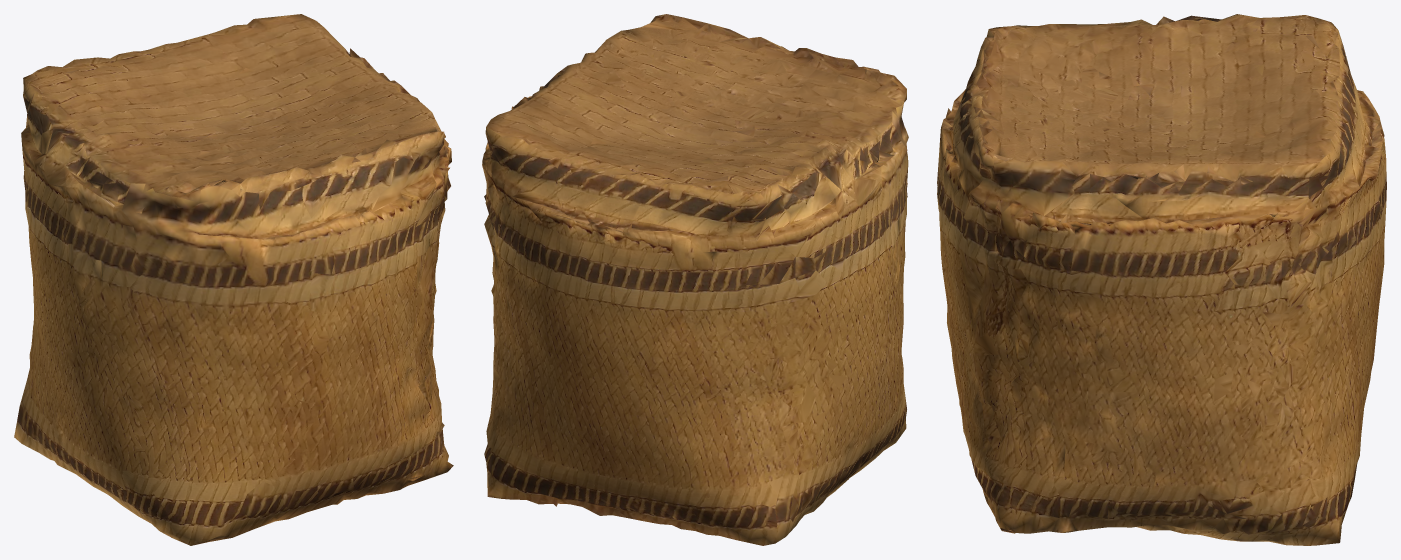
The picture shows the model from 3 angles, left to right: view 1: azimuth 30°, elevation 25°; view 2: azimuth 150°, elevation 25°; view 3: azimuth 270°, elevation 25°; orthographic projection. The views are drawn at different scales.
Parts seen in each view (by area): view 1: ME0798; view 2: ME0798; view 3: ME0798.
Part boxes in pixels (x1,y1,x2,y2): ME0798: (14,14,453,545); ME0798: (482,14,908,545); ME0798: (937,14,1386,545).
Bounding box in the file's own units: 1.95 × 1.91 × 1.98.
Materials: 1 (1 with a texture image).
